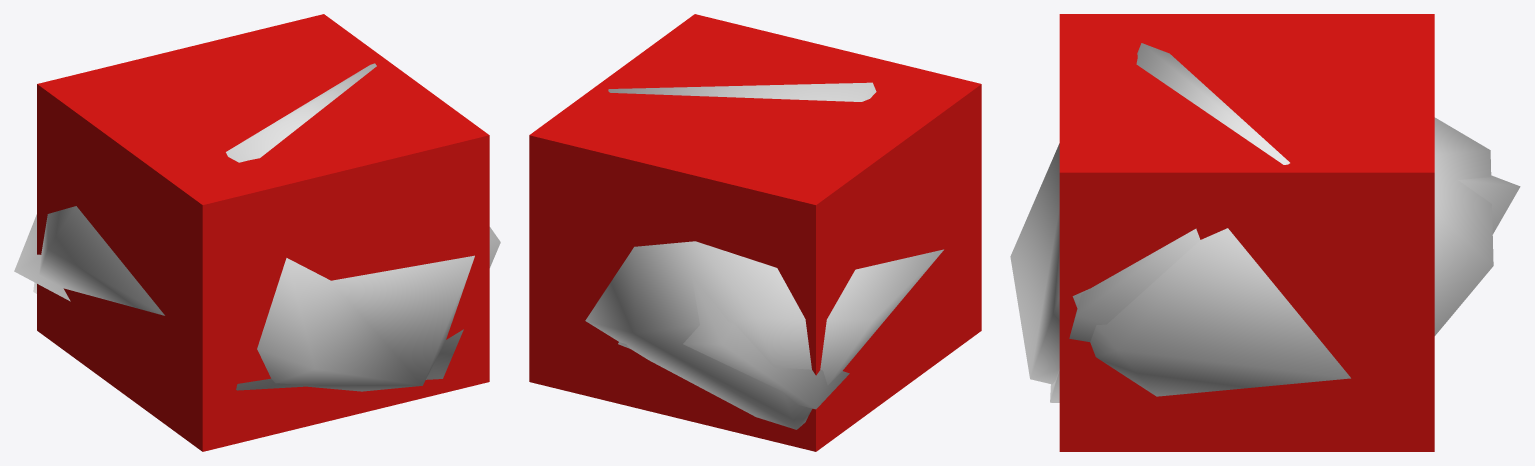
The model's file is pac_rock_tiny_3.dae.
The picture shows the model from 3 angles, left to right: view 1: azimuth 30°, elevation 25°; view 2: azimuth 150°, elevation 25°; view 3: azimuth 270°, elevation 25°; orthographic projection. The views are drawn at different scales.
Parts seen in each view (by area): view 1: Colmesh_pac_rock_tiny_3-1, pac_rock_tiny_3_a80, pac_rock_tiny_3_a40; view 2: Colmesh_pac_rock_tiny_3-1, pac_rock_tiny_3_a80, pac_rock_tiny_3_a40; view 3: Colmesh_pac_rock_tiny_3-1, pac_rock_tiny_3_a80, pac_rock_tiny_3_a40.
Part boxes in pixels (left/top/right/bottom): Colmesh_pac_rock_tiny_3-1: left=37, top=14, right=489, bottom=451; pac_rock_tiny_3_a80: left=33, top=206, right=474, bottom=391; pac_rock_tiny_3_a40: left=14, top=63, right=500, bottom=390; Colmesh_pac_rock_tiny_3-1: left=529, top=14, right=981, bottom=451; pac_rock_tiny_3_a80: left=585, top=241, right=943, bottom=429; pac_rock_tiny_3_a40: left=608, top=82, right=876, bottom=409; Colmesh_pac_rock_tiny_3-1: left=1059, top=14, right=1434, bottom=451; pac_rock_tiny_3_a80: left=1010, top=117, right=1493, bottom=396; pac_rock_tiny_3_a40: left=1050, top=43, right=1520, bottom=402.
Bounding box in the file's own units: 0.1083 × 0.1258 × 0.0791.
